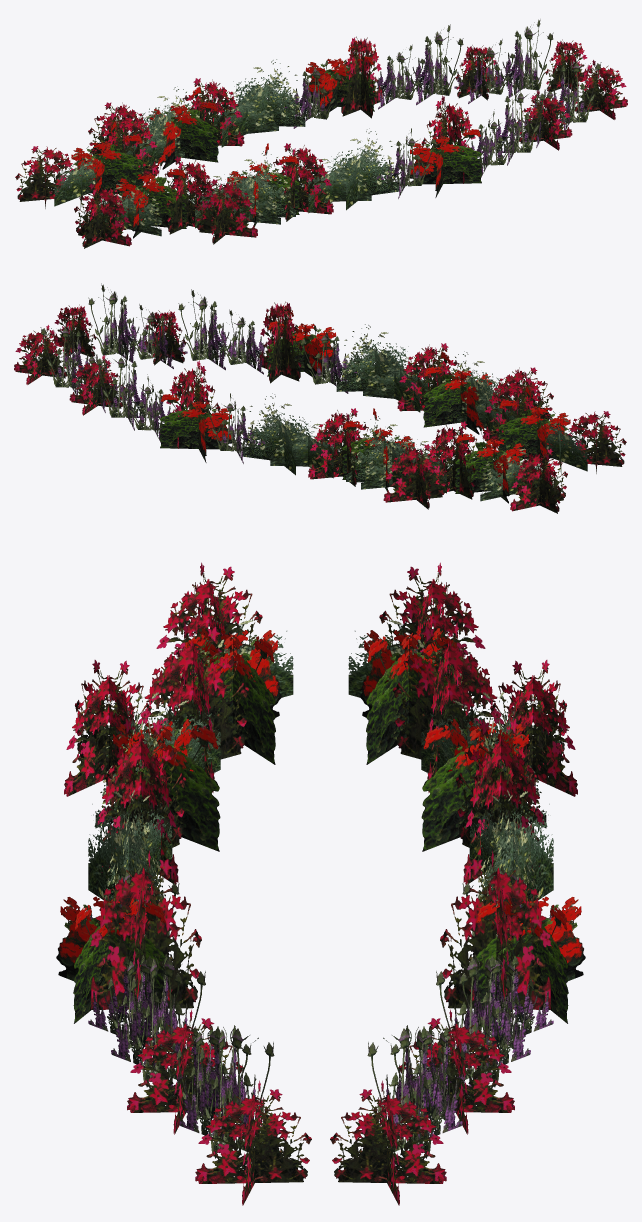
Rendered from bush03_lvs.obj.
3 renders of one model, top to bottom at view 1: azimuth 30°, elevation 25°; view 2: azimuth 150°, elevation 25°; view 3: azimuth 270°, elevation 25°, orthographic. The views are drawn at different scales.
Parts seen in each view (by area): view 1: bush03_lvs; view 2: bush03_lvs; view 3: bush03_lvs.
Boxes of the visible parts, x1,y1,x2,y2 form: bush03_lvs: [15, 19, 627, 248]; bush03_lvs: [14, 283, 626, 513]; bush03_lvs: [56, 562, 585, 1205].
Bounding box in the file's own units: 11.88 × 1.53 × 4.94.
4 materials, 4 textured.
